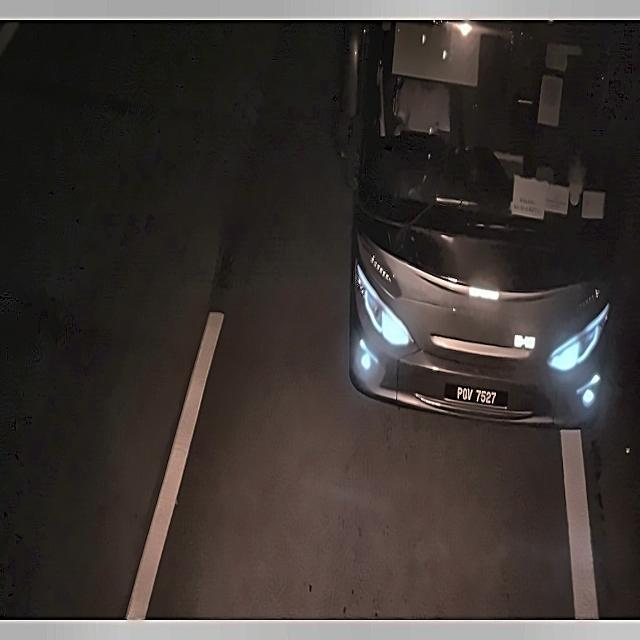car: (442, 374, 510, 418)
